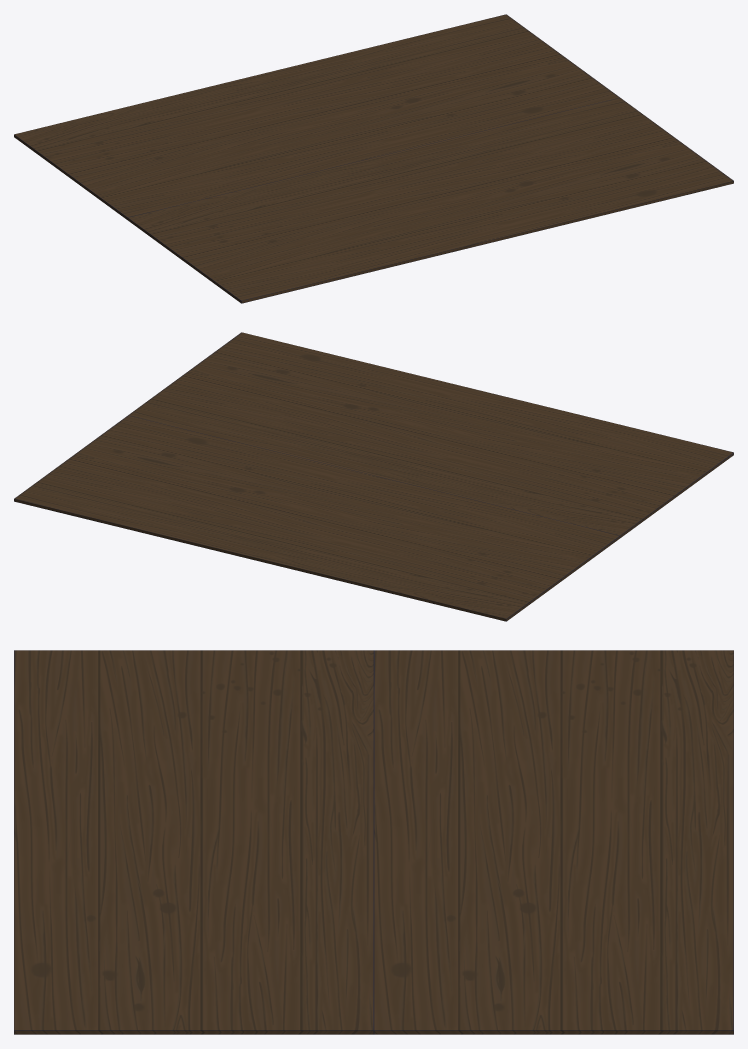
File: Table.fbx
3 renders of one model, top to bottom at view 1: azimuth 30°, elevation 25°; view 2: azimuth 150°, elevation 25°; view 3: azimuth 270°, elevation 25°, orthographic. The views are drawn at different scales.
Parts seen in each view (by area): view 1: pCube3; view 2: pCube3; view 3: pCube3.
Part boxes in pixels (x1,y1,x2,y2): pCube3: (14,14,733,303); pCube3: (14,332,733,621); pCube3: (14,650,733,1034).
Size of the model in its own units: 3000 by 15.9 by 2401.
Materials: 1 (1 with a texture image).
